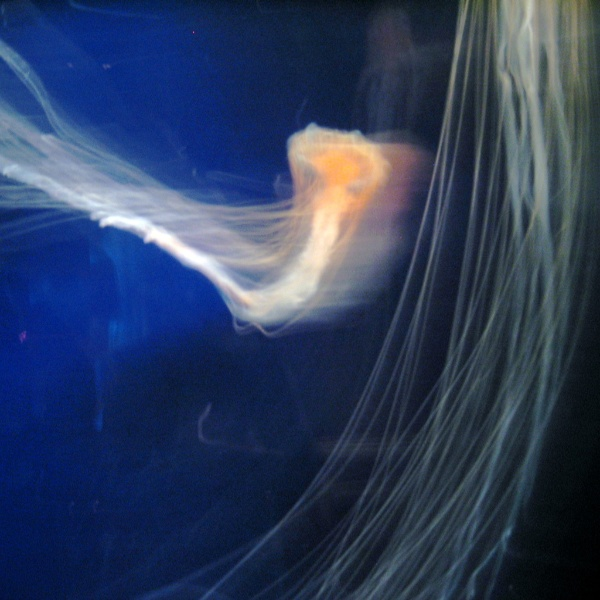Jellyfish: (46, 112, 390, 362)
